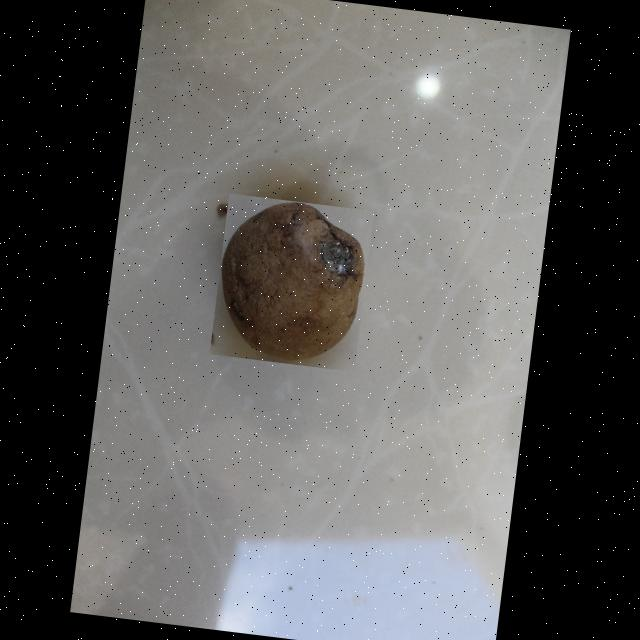Diseased-fungal potato: (209, 192, 374, 370)
